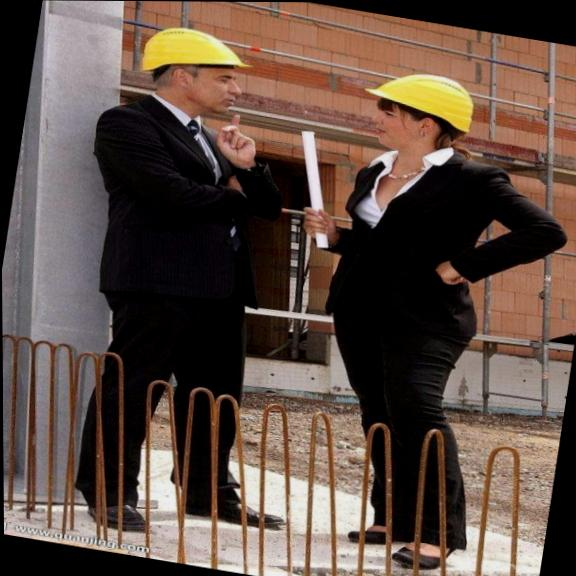no_safety_vest: (67, 89, 298, 318), (317, 132, 520, 344)
